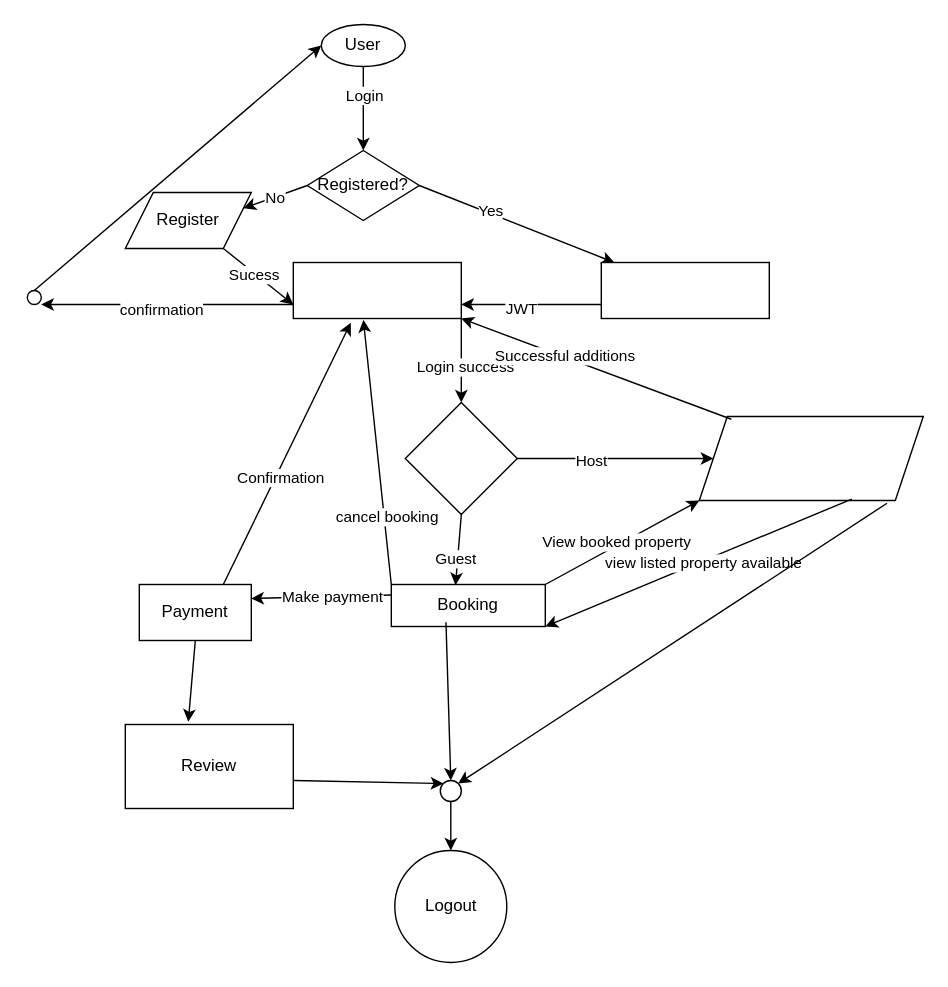
Some shapes in this 948 by 987 pixel diagram are drawn without their labels. The shapes that lost their labels are listed below. From the top down, each one's centre as x and y in pixels, then its label:
At point (376, 289): "Notofication".
At point (684, 289): "Authentication".
At point (460, 457): "Role".
At point (810, 457): "Add property/ View".
